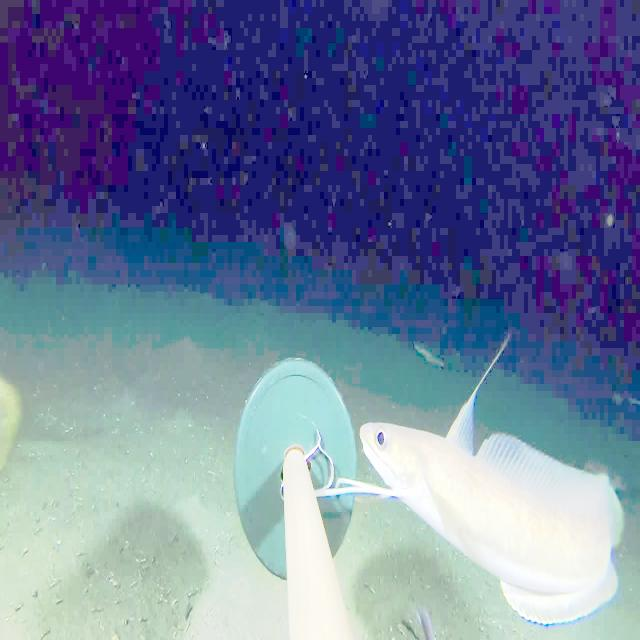fish: (360, 410, 630, 623), (2, 342, 34, 494), (390, 596, 446, 640), (407, 334, 457, 379)
pole: (234, 348, 360, 639)
